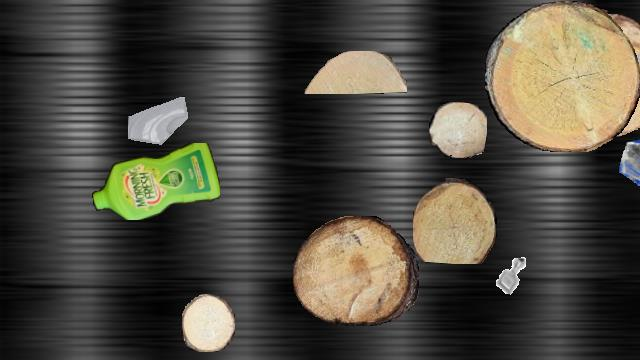glass: (128, 96, 190, 158), (619, 136, 640, 220), (619, 33, 640, 109)
metal: (486, 250, 538, 302), (634, 1, 640, 55)
plastic: (92, 143, 220, 219)
wood: (485, 1, 640, 151), (293, 216, 419, 326), (545, 14, 640, 138), (413, 178, 497, 264), (304, 51, 406, 93), (429, 102, 487, 158), (182, 294, 234, 352)
